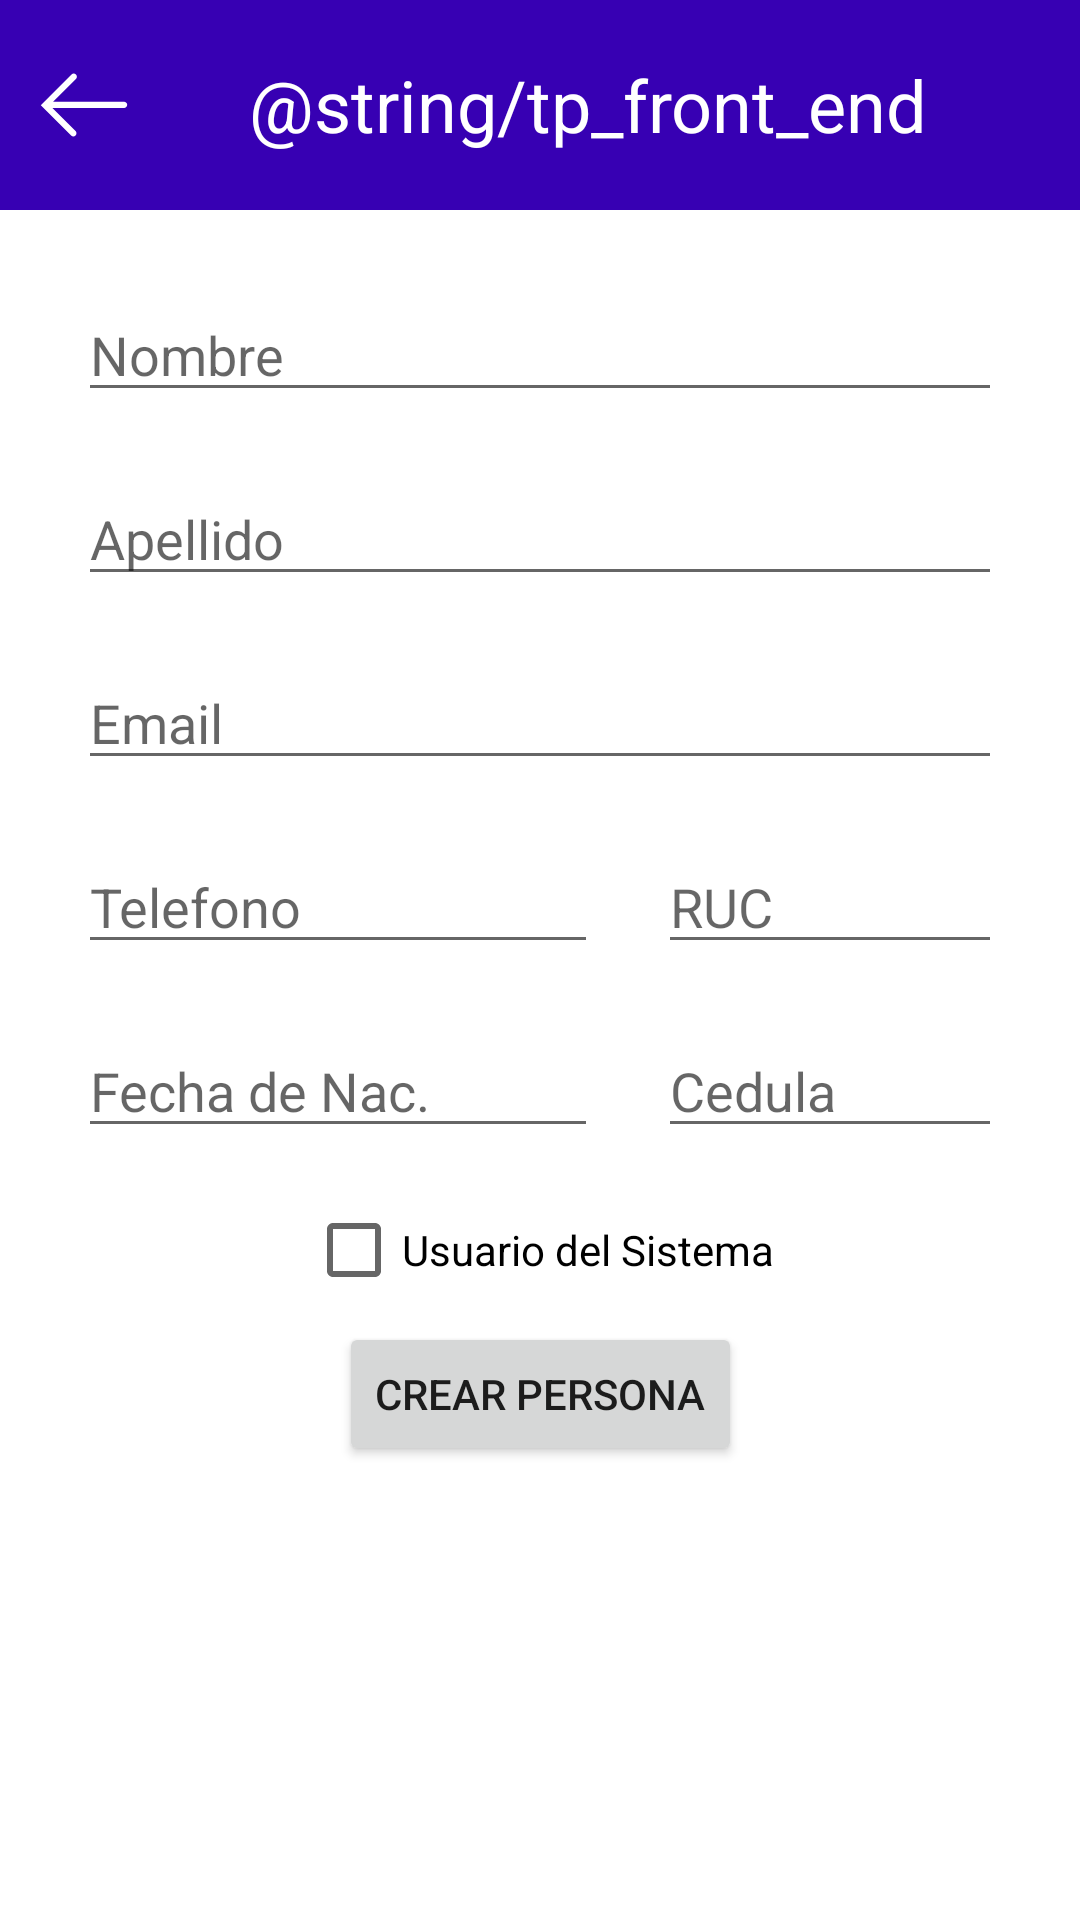

Point at icon controls on the screen. Image size 1080px×1920px, points as point (x, y).
arrow back: point (84, 105)
